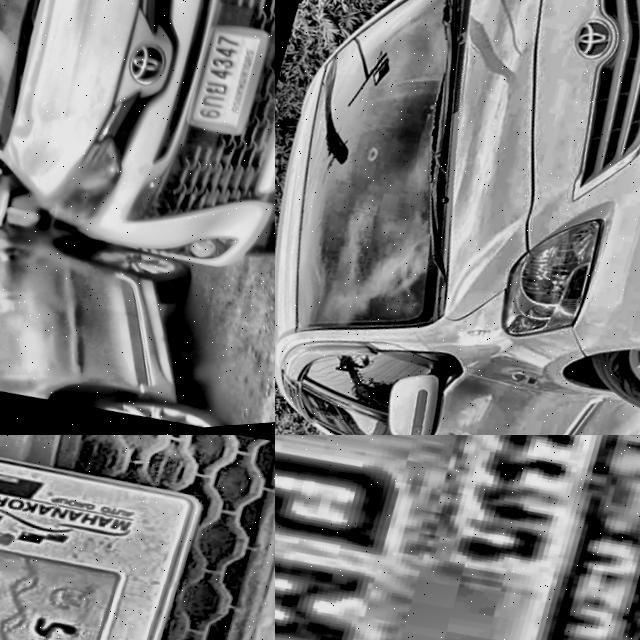license-plate: (275, 435, 640, 640), (0, 435, 245, 640), (181, 17, 275, 144)
